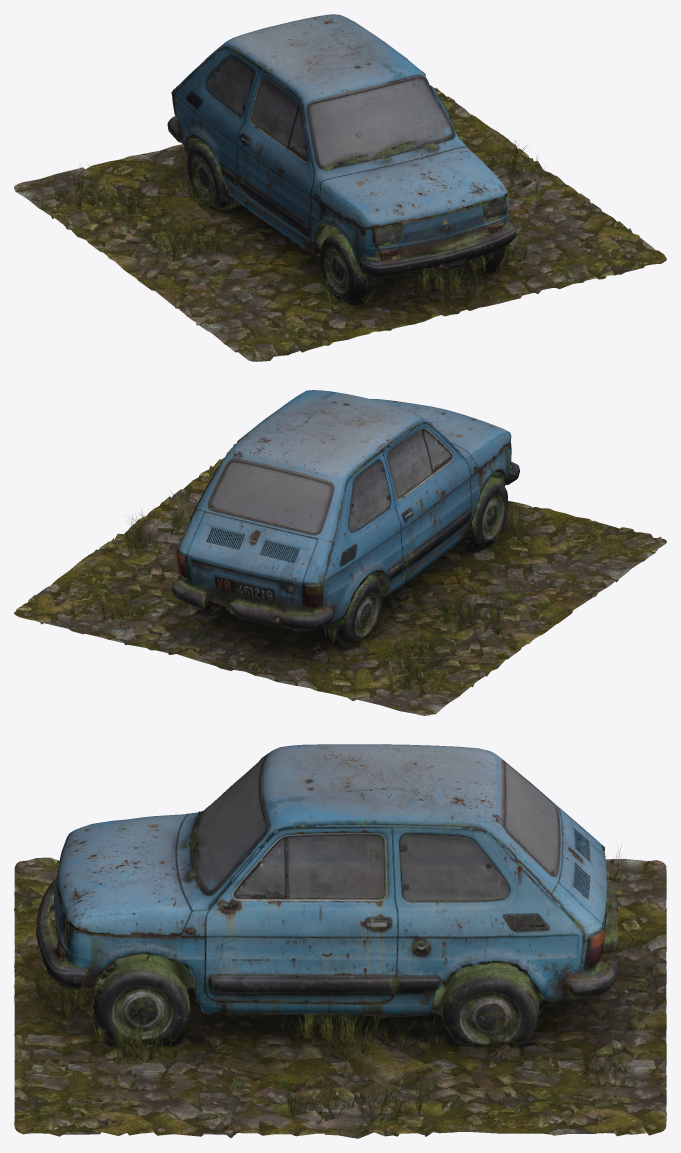
The model's file is fiat-126p.glb.
The picture shows the model from 3 angles, top to bottom: view 1: azimuth 30°, elevation 25°; view 2: azimuth 150°, elevation 25°; view 3: azimuth 270°, elevation 25°; orthographic projection. The views are drawn at different scales.
Parts seen in each view (by area): view 1: fiat 126_0, Plane_1, grasspatch3.003_9, grasspatch3.002_8, grasspatch1.002_10, grasspatch1.003_11, grasspatch3_4, grasspatch2.003_13, grasspatch2.004_14, grasspatch1.001_5, grasspatch1_2; view 2: fiat 126_0, Plane_1, grasspatch3.003_9, grasspatch1.003_11, grasspatch1.002_10, grasspatch1.001_5, grasspatch2.003_13, grasspatch2.002_12, grasspatch2.004_14, grasspatch1_2; view 3: fiat 126_0, Plane_1, grasspatch3.001_6, grasspatch3_4, grasspatch3.002_8, grasspatch2.004_14, grasspatch2.003_13, grasspatch2.002_12, grasspatch2.001_7, grasspatch2_3.
Part boxes in pixels (x1,y1,x2,y2): fiat 126_0: [167, 14, 516, 302]; Plane_1: [14, 86, 666, 361]; grasspatch3.003_9: [146, 215, 228, 266]; grasspatch3.002_8: [405, 257, 489, 305]; grasspatch1.002_10: [50, 165, 117, 209]; grasspatch1.003_11: [101, 182, 167, 222]; grasspatch3_4: [472, 231, 538, 278]; grasspatch2.003_13: [481, 132, 526, 173]; grasspatch2.004_14: [500, 156, 548, 194]; grasspatch1.001_5: [174, 168, 213, 207]; grasspatch1_2: [313, 271, 377, 306]; fiat 126_0: [172, 390, 519, 644]; Plane_1: [14, 457, 666, 715]; grasspatch3.003_9: [425, 576, 516, 638]; grasspatch1.003_11: [384, 623, 445, 669]; grasspatch1.002_10: [381, 654, 445, 695]; grasspatch1.001_5: [324, 607, 388, 648]; grasspatch2.003_13: [125, 511, 174, 555]; grasspatch2.002_12: [95, 587, 148, 627]; grasspatch2.004_14: [141, 488, 186, 534]; grasspatch1_2: [463, 504, 521, 545]; fiat 126_0: [36, 744, 617, 1044]; Plane_1: [14, 857, 666, 1138]; grasspatch3.001_6: [280, 1009, 393, 1062]; grasspatch3_4: [77, 1009, 177, 1064]; grasspatch3.002_8: [26, 966, 114, 1022]; grasspatch2.004_14: [277, 1065, 362, 1126]; grasspatch2.003_13: [356, 1072, 433, 1121]; grasspatch2.002_12: [572, 1038, 631, 1085]; grasspatch2.001_7: [390, 1016, 444, 1056]; grasspatch2_3: [483, 1005, 544, 1054].
Bounding box in the file's own units: 21.65 × 8.38 × 21.66.
Materials: 3 (3 with a texture image).
